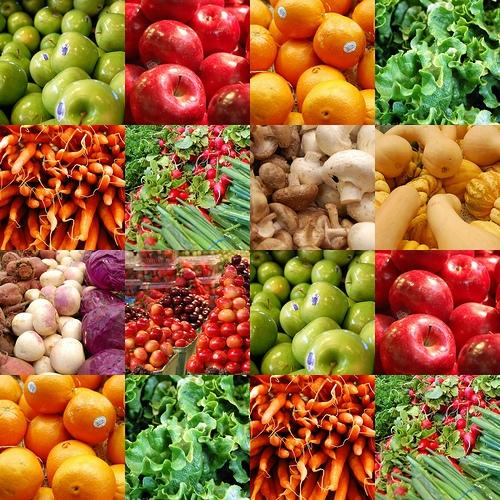apple: (129, 64, 206, 125), (380, 314, 456, 375), (388, 269, 454, 324), (138, 20, 204, 74), (303, 328, 375, 376), (54, 79, 124, 125), (446, 302, 500, 358), (436, 254, 490, 310), (197, 53, 251, 106), (292, 316, 342, 367), (42, 66, 91, 116), (192, 4, 240, 55), (298, 280, 350, 326), (48, 31, 99, 76), (457, 331, 500, 375), (207, 80, 250, 124), (375, 252, 403, 309), (126, 2, 153, 61), (391, 250, 451, 274), (11, 92, 54, 125), (260, 341, 303, 374), (375, 314, 397, 375), (125, 64, 147, 124), (0, 61, 28, 108), (250, 310, 277, 358), (140, 3, 199, 24), (95, 14, 126, 53), (345, 262, 375, 302), (342, 301, 376, 335), (279, 298, 307, 338), (29, 48, 57, 88), (93, 51, 125, 85), (224, 4, 250, 45), (250, 298, 282, 331), (474, 254, 498, 297), (0, 48, 31, 80), (61, 9, 92, 37), (284, 256, 312, 286), (311, 260, 342, 287), (12, 25, 40, 53), (34, 7, 63, 34), (262, 275, 290, 302), (256, 260, 284, 286), (109, 69, 125, 113), (360, 320, 376, 363), (8, 12, 34, 36), (2, 40, 31, 61), (73, 0, 105, 18), (252, 291, 282, 310), (296, 250, 324, 267), (324, 250, 355, 265), (250, 250, 272, 271), (272, 250, 295, 268), (2, 1, 24, 19), (47, 1, 73, 16), (290, 282, 311, 300), (40, 32, 61, 50), (356, 250, 376, 266), (106, 0, 125, 16), (22, 0, 45, 13), (0, 33, 13, 54), (250, 282, 263, 302), (229, 43, 246, 58), (24, 82, 42, 96), (274, 332, 292, 346), (38, 116, 60, 126), (250, 358, 261, 375), (0, 109, 11, 125), (200, 0, 225, 7), (244, 8, 250, 34), (246, 32, 250, 64), (346, 298, 358, 308), (250, 264, 256, 283)
carrot: (68, 190, 102, 242), (0, 203, 29, 250), (250, 451, 278, 499), (6, 152, 36, 194), (296, 443, 318, 500), (277, 457, 306, 499), (28, 208, 56, 250), (47, 193, 67, 250), (96, 198, 126, 236), (57, 207, 83, 250), (250, 374, 302, 394), (55, 134, 88, 165), (30, 214, 61, 246), (305, 384, 338, 414), (347, 450, 375, 485), (310, 378, 334, 418), (0, 125, 52, 143), (308, 447, 328, 492), (314, 456, 334, 500), (80, 162, 104, 198), (261, 392, 287, 425), (58, 200, 78, 242), (12, 142, 37, 174), (100, 218, 125, 250), (308, 462, 328, 500), (302, 430, 330, 456), (360, 445, 374, 496), (110, 197, 124, 246), (298, 469, 320, 500), (48, 219, 70, 250), (1, 139, 28, 164), (250, 418, 278, 442), (352, 472, 376, 500), (337, 375, 360, 404), (278, 434, 298, 466), (84, 209, 99, 250), (334, 461, 349, 500), (9, 194, 26, 228), (259, 444, 276, 478), (52, 180, 78, 202), (20, 212, 35, 250), (297, 428, 313, 460), (272, 459, 285, 498), (0, 214, 14, 250), (346, 469, 362, 500), (67, 156, 108, 168), (310, 408, 359, 418), (96, 221, 112, 250), (0, 168, 28, 184), (250, 392, 269, 415), (18, 160, 34, 187), (41, 143, 58, 168), (269, 408, 284, 436), (0, 133, 20, 154), (42, 186, 57, 212), (75, 180, 94, 200), (279, 478, 300, 496), (0, 184, 21, 202), (20, 176, 37, 198), (266, 422, 303, 432), (32, 160, 45, 188), (282, 410, 295, 438), (250, 383, 270, 401), (356, 375, 376, 393), (70, 190, 87, 210), (281, 374, 302, 390), (16, 220, 27, 250), (88, 125, 100, 152), (106, 125, 125, 142), (320, 440, 336, 460), (250, 420, 272, 434), (102, 184, 116, 206), (324, 432, 342, 449), (71, 164, 90, 180), (321, 414, 340, 430), (250, 434, 270, 449), (353, 435, 367, 456), (51, 126, 63, 150), (91, 138, 102, 164), (111, 158, 124, 180), (362, 408, 374, 430), (1, 200, 14, 220), (116, 178, 126, 204), (260, 477, 271, 500), (346, 402, 364, 416), (34, 150, 46, 170), (92, 131, 109, 145), (258, 401, 272, 418), (97, 174, 110, 192), (10, 227, 20, 250), (268, 477, 278, 500), (38, 206, 50, 225), (61, 127, 75, 143), (67, 167, 83, 181), (289, 456, 300, 476), (336, 412, 354, 424), (99, 163, 114, 177), (270, 432, 285, 446), (109, 174, 126, 186), (250, 454, 262, 471), (81, 126, 101, 136), (106, 134, 120, 148), (310, 378, 324, 392), (302, 418, 316, 432), (318, 418, 334, 430), (346, 382, 359, 396), (0, 195, 15, 207), (356, 384, 369, 397), (288, 446, 302, 458), (38, 197, 52, 209), (32, 125, 50, 134), (35, 184, 45, 200), (350, 414, 363, 426), (275, 448, 290, 458), (292, 438, 307, 448), (86, 172, 98, 184), (26, 198, 39, 209), (116, 135, 125, 150), (250, 375, 262, 386), (48, 178, 60, 189), (310, 390, 321, 402), (336, 422, 347, 434), (36, 237, 46, 250), (367, 437, 375, 453), (286, 488, 296, 500), (2, 160, 14, 170), (335, 382, 342, 398), (115, 157, 125, 167), (296, 417, 306, 427), (284, 400, 294, 410), (47, 166, 55, 178), (292, 412, 300, 424), (116, 150, 126, 159), (60, 165, 68, 176), (304, 434, 315, 442), (348, 375, 358, 383), (366, 401, 375, 409), (256, 488, 262, 500), (302, 396, 309, 406), (337, 402, 347, 409), (60, 140, 66, 150), (317, 375, 332, 379), (298, 382, 312, 386), (370, 410, 375, 420), (52, 125, 60, 130), (92, 152, 96, 159), (94, 244, 96, 250)
cherry: (125, 354, 143, 371), (186, 356, 204, 373), (149, 350, 165, 368), (134, 330, 150, 347), (226, 347, 244, 362), (210, 350, 228, 365), (223, 284, 239, 300), (209, 336, 226, 351), (218, 309, 236, 323), (226, 334, 244, 348), (224, 361, 242, 375), (204, 323, 220, 338), (235, 308, 250, 324), (196, 334, 211, 350), (159, 341, 173, 358), (196, 348, 212, 362), (216, 298, 232, 312), (147, 302, 164, 315), (135, 317, 150, 331), (134, 347, 148, 362), (220, 323, 236, 336), (144, 340, 160, 353), (237, 322, 250, 336), (224, 265, 237, 277), (208, 309, 220, 322), (152, 314, 164, 326), (224, 276, 237, 287), (172, 330, 185, 341), (171, 321, 184, 332), (125, 337, 135, 350), (164, 337, 176, 347), (172, 296, 184, 306), (231, 254, 242, 264), (161, 328, 172, 338), (241, 360, 250, 372), (180, 287, 190, 297), (241, 270, 249, 282), (125, 322, 137, 330), (175, 339, 187, 347), (174, 305, 184, 314), (182, 323, 192, 332), (191, 320, 202, 328), (163, 296, 171, 306), (190, 312, 198, 322), (182, 296, 192, 304), (240, 294, 248, 304), (144, 364, 154, 372), (244, 336, 250, 349), (242, 282, 250, 290), (245, 348, 250, 360), (242, 286, 246, 296), (244, 292, 250, 298), (244, 278, 250, 284), (172, 314, 178, 320), (200, 306, 204, 312), (244, 268, 248, 273)
lettuce: (142, 374, 206, 430), (125, 424, 191, 478), (186, 412, 238, 473), (220, 374, 250, 417), (426, 1, 454, 43), (216, 411, 250, 437), (125, 376, 137, 406)
mushroom: (320, 149, 376, 204), (272, 172, 319, 211), (326, 203, 354, 250), (316, 125, 356, 157), (317, 214, 351, 250), (290, 151, 324, 186), (314, 184, 348, 218), (268, 202, 300, 238), (250, 124, 278, 160), (292, 219, 326, 248), (250, 177, 270, 224), (347, 193, 375, 223), (279, 125, 302, 161), (347, 221, 375, 250), (296, 202, 328, 227), (259, 162, 286, 190), (254, 213, 278, 244), (302, 128, 326, 158), (261, 125, 292, 148), (258, 154, 291, 174), (356, 125, 375, 158), (255, 176, 275, 200), (272, 230, 294, 250), (254, 238, 289, 250), (349, 125, 363, 149), (250, 220, 259, 244)
orange: (302, 79, 367, 125), (52, 454, 116, 500), (62, 390, 116, 444), (313, 16, 366, 70), (24, 414, 75, 464), (274, 38, 324, 88), (296, 65, 347, 113), (46, 440, 97, 487), (0, 446, 44, 498), (250, 74, 294, 126), (24, 374, 76, 415), (273, 0, 326, 39), (250, 24, 277, 78), (0, 399, 27, 450), (310, 12, 344, 42), (59, 387, 93, 417), (102, 375, 125, 418), (352, 0, 375, 42), (269, 17, 294, 50), (18, 392, 42, 426), (107, 422, 126, 464), (357, 49, 375, 90), (0, 375, 22, 405), (250, 0, 272, 30), (360, 89, 375, 125), (110, 464, 125, 500), (320, 0, 353, 16), (70, 374, 102, 390), (281, 112, 305, 125), (32, 487, 55, 499), (270, 4, 276, 8)
radish: (418, 438, 468, 483), (197, 149, 222, 168), (196, 148, 214, 168), (446, 398, 464, 417), (463, 432, 476, 458), (161, 188, 180, 203), (464, 378, 476, 399), (384, 466, 402, 480), (214, 128, 225, 150), (144, 229, 156, 246), (456, 410, 466, 430), (213, 182, 226, 196), (178, 190, 196, 200), (470, 424, 484, 436), (468, 403, 480, 416), (220, 144, 232, 157), (461, 441, 472, 455), (470, 394, 482, 406), (221, 174, 233, 186), (200, 211, 212, 223), (168, 152, 176, 168), (171, 169, 182, 180), (169, 152, 179, 164), (206, 168, 216, 180), (456, 428, 466, 440), (428, 441, 440, 451), (420, 402, 430, 414), (394, 486, 406, 496), (214, 125, 224, 137), (421, 420, 432, 430), (487, 400, 500, 408), (176, 126, 186, 136), (464, 376, 474, 386), (452, 464, 462, 474), (238, 150, 250, 158), (226, 140, 235, 150), (227, 149, 237, 158), (142, 216, 152, 225), (390, 478, 401, 486), (134, 222, 145, 230), (426, 376, 435, 385), (178, 182, 188, 190), (404, 446, 414, 454), (210, 156, 218, 166), (410, 398, 420, 406), (478, 399, 486, 408), (409, 389, 416, 399), (159, 139, 166, 149), (478, 390, 485, 400), (448, 456, 456, 464), (459, 406, 466, 415), (458, 390, 464, 400), (412, 375, 422, 381), (208, 134, 217, 140), (458, 384, 467, 390), (135, 190, 140, 200), (375, 462, 380, 472), (125, 212, 130, 222), (125, 220, 130, 230), (138, 185, 145, 192), (208, 126, 216, 132), (376, 454, 382, 462), (458, 376, 466, 382), (241, 159, 250, 164), (126, 203, 131, 212), (162, 126, 173, 130), (188, 127, 194, 134), (438, 404, 444, 411), (130, 210, 134, 220), (375, 448, 381, 454), (471, 375, 481, 378), (125, 198, 129, 205)
